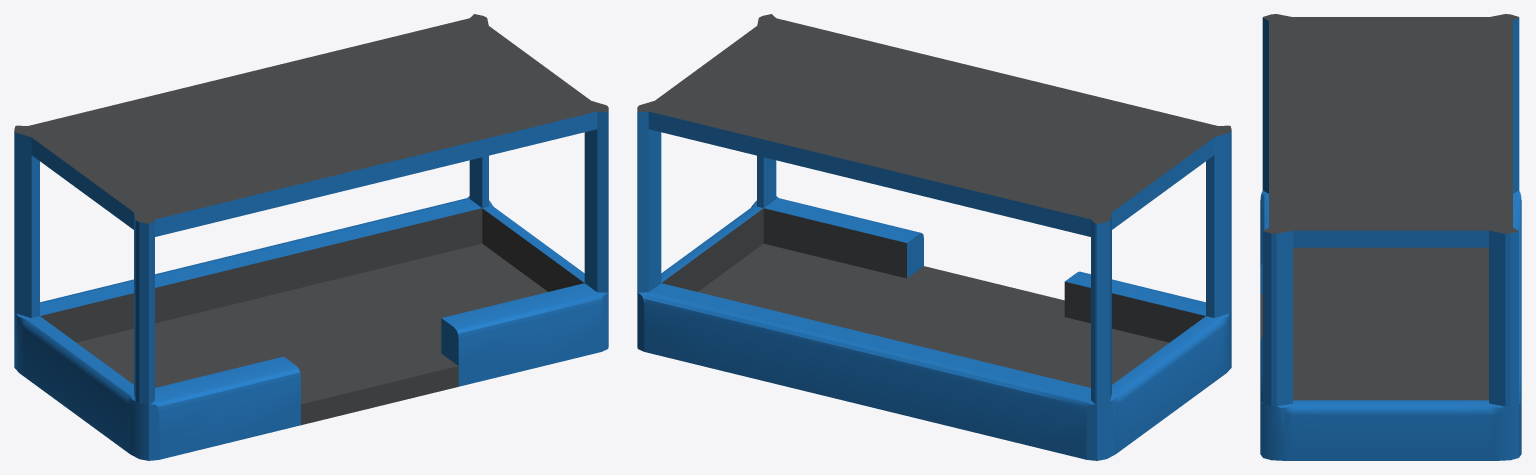
The model's file is Dodgem Arena Textured.FBX.
3 views of the same model, side by side, from view 1: azimuth 30°, elevation 25°; view 2: azimuth 150°, elevation 25°; view 3: azimuth 270°, elevation 25° (orthographic). The views are drawn at different scales.
Parts seen in each view (by area): view 1: Dodgem Arena; view 2: Dodgem Arena; view 3: Dodgem Arena.
Part boxes in pixels (bbox=[...]): Dodgem Arena: bbox=[14, 14, 608, 460]; Dodgem Arena: bbox=[637, 14, 1231, 460]; Dodgem Arena: bbox=[1260, 14, 1521, 460].
Size of the model in its own units: 60 by 28.73 by 30.
Materials: 2 (2 with a texture image).
